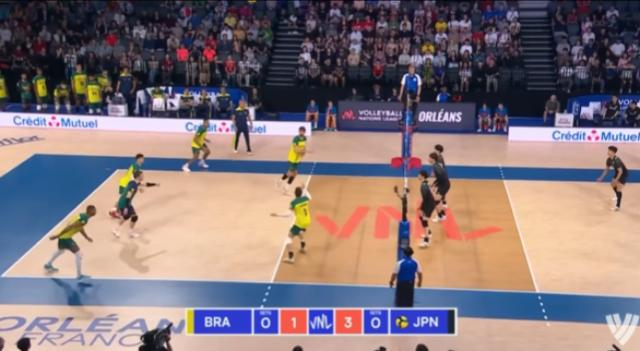Levantador: (268, 176, 334, 266), (432, 132, 446, 168)
Libero: (104, 164, 156, 246)
bola: (237, 1, 266, 8)
